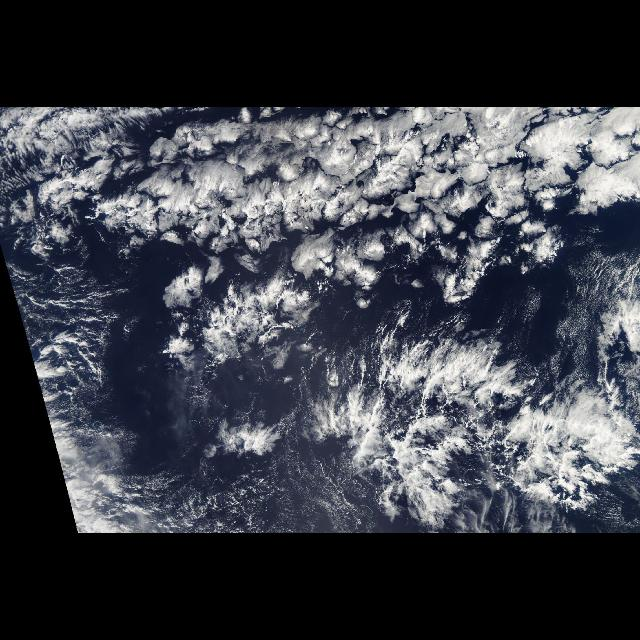Fish: (289, 332, 639, 532)
Flower: (111, 109, 512, 319)
Sugar: (21, 262, 350, 530), (513, 252, 639, 386)
